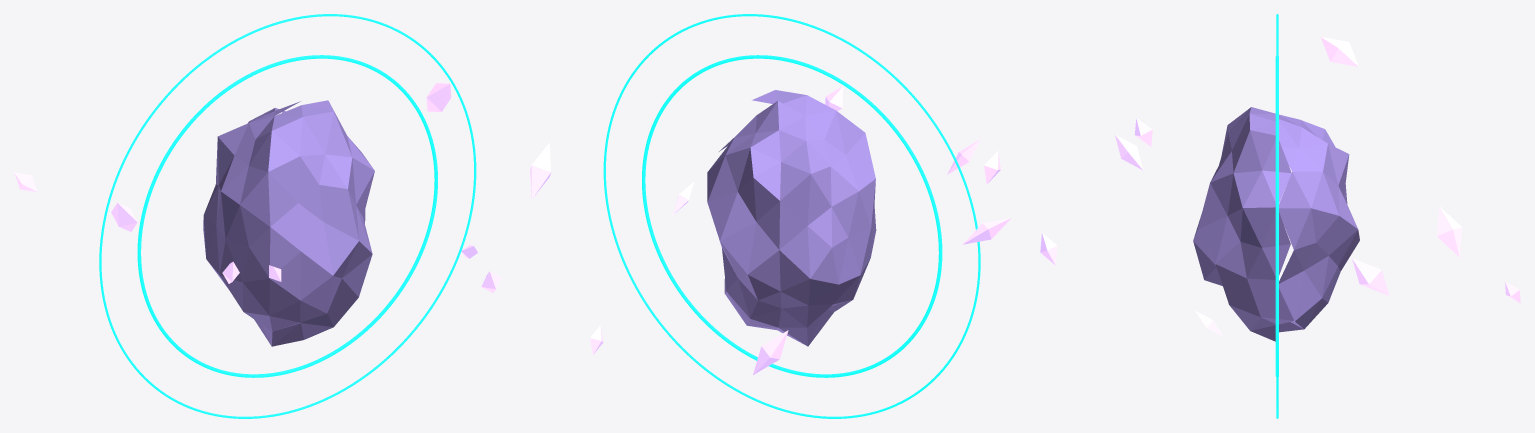
The model's file is esm-core.glb.
3 views of the same model, side by side, from view 1: azimuth 30°, elevation 25°; view 2: azimuth 150°, elevation 25°; view 3: azimuth 270°, elevation 25° (orthographic). The views are drawn at different scales.
Visible parts, largest first — view 1: Crystal, Ring1, Ring2, Shard7, Shard5; view 2: Crystal, Ring1, Ring2, Shard7, Shard5, Shard4; view 3: Crystal, Ring2, Ring1, Shard5, Shard7, Shard4, Shard2.
Boxes of the visible parts, x1=… form: Crystal: x1=203, y1=100, x2=374, y2=346; Ring1: x1=137, y1=55, x2=437, y2=377; Ring2: x1=99, y1=14, x2=476, y2=418; Shard7: x1=426, y1=83, x2=451, y2=111; Shard5: x1=111, y1=202, x2=137, y2=231; Crystal: x1=707, y1=90, x2=876, y2=346; Ring1: x1=642, y1=55, x2=942, y2=377; Ring2: x1=603, y1=14, x2=980, y2=418; Shard7: x1=530, y1=142, x2=551, y2=198; Shard5: x1=753, y1=330, x2=788, y2=374; Shard4: x1=963, y1=218, x2=1011, y2=244; Crystal: x1=1193, y1=107, x2=1359, y2=341; Ring2: x1=1276, y1=14, x2=1278, y2=418; Ring1: x1=1275, y1=56, x2=1278, y2=376; Shard5: x1=1437, y1=206, x2=1462, y2=257; Shard7: x1=1352, y1=258, x2=1389, y2=295; Shard4: x1=1320, y1=37, x2=1358, y2=66; Shard2: x1=1115, y1=134, x2=1143, y2=170.
Size of the model in its own units: 6.44 by 5.33 by 6.32.
